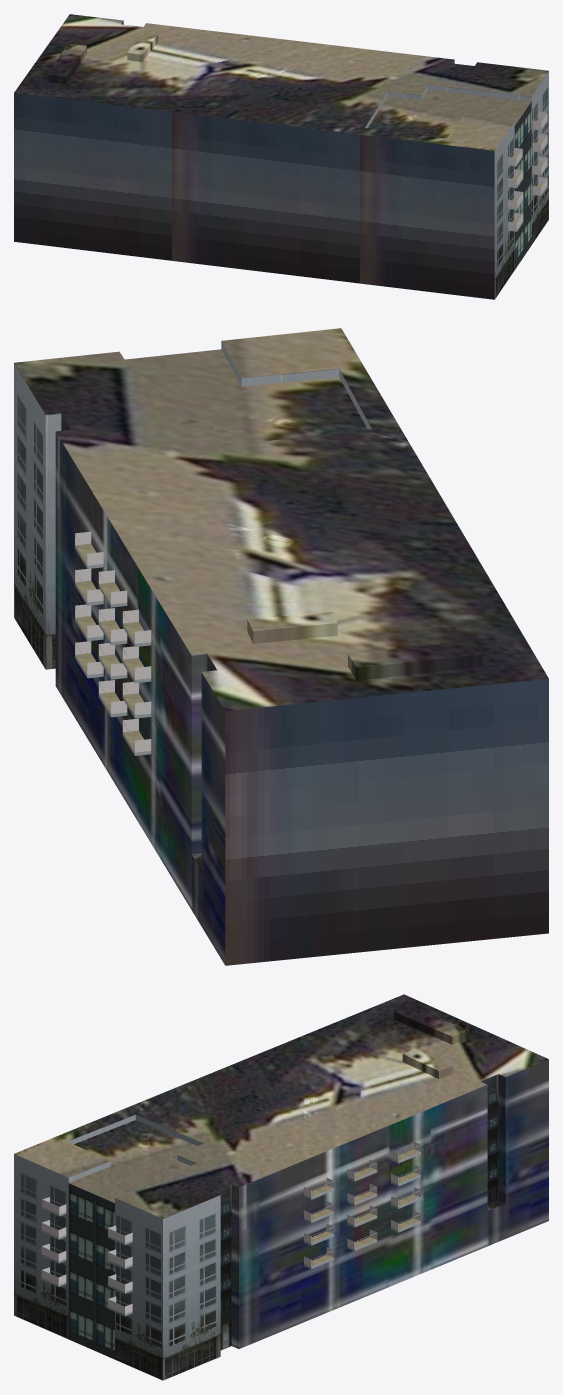
File: Soltva-Apartments.fbx
3 renders of one model, top to bottom at view 1: azimuth 30°, elevation 25°; view 2: azimuth 150°, elevation 25°; view 3: azimuth 270°, elevation 25°, orthographic. The views are drawn at different scales.
Parts seen in each view (by area): view 1: Component_1_1; view 2: Component_1_1; view 3: Component_1_1.
Part boxes in pixels (x1=…): Component_1_1: x1=14, y1=14, x2=548, y2=299; Component_1_1: x1=14, y1=328, x2=548, y2=965; Component_1_1: x1=14, y1=994, x2=548, y2=1380.
Bounding box in the file's own units: 59.91 × 21.12 × 60.31.
